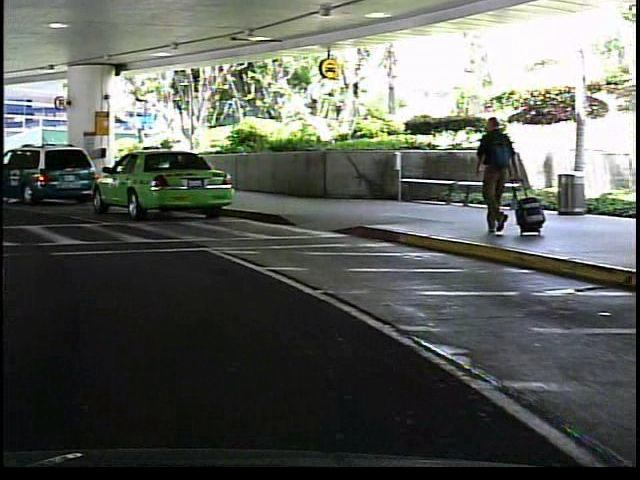person: (465, 111, 523, 245)
